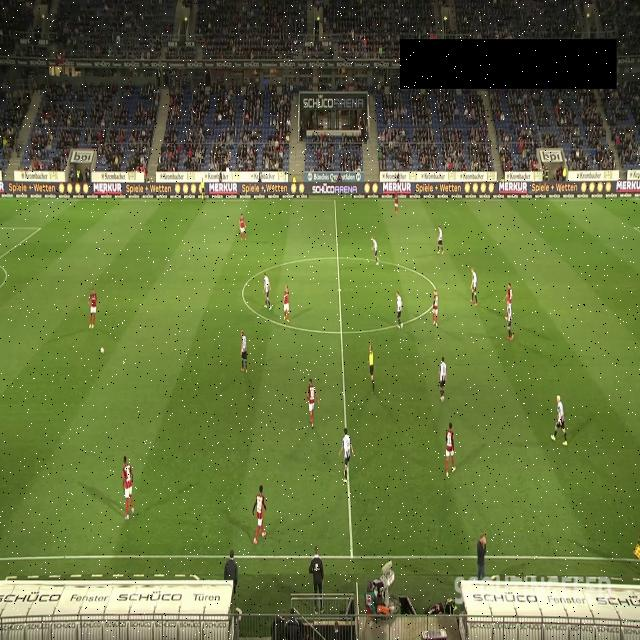Ball: (100, 347, 104, 355)
Referee: (368, 337, 375, 395), (199, 179, 206, 202)
TEAM 1: (121, 454, 135, 520), (252, 484, 266, 543), (306, 378, 319, 431), (445, 422, 456, 478), (88, 288, 98, 331), (503, 283, 512, 319), (282, 285, 290, 323), (432, 289, 439, 327), (239, 212, 247, 243), (394, 190, 398, 216)
TEAM 2: (338, 427, 354, 483), (551, 396, 568, 448), (438, 357, 448, 402), (262, 272, 272, 310), (240, 331, 248, 374), (470, 266, 478, 306), (396, 291, 404, 330), (506, 299, 513, 342), (371, 236, 380, 267), (437, 224, 444, 256)
